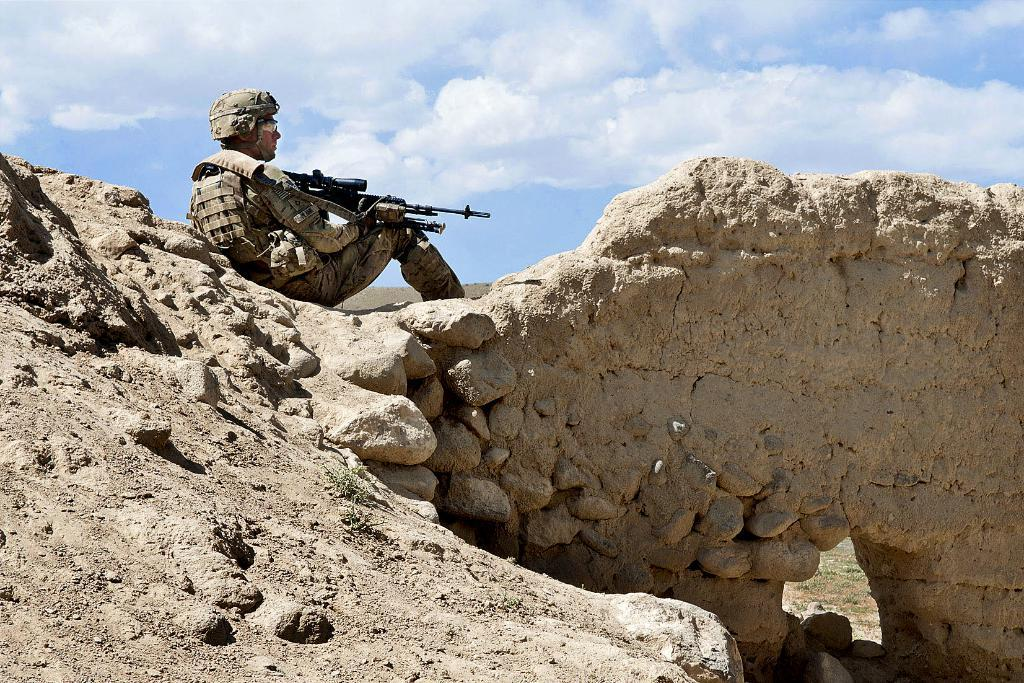Rifle: (285, 172, 491, 226)
